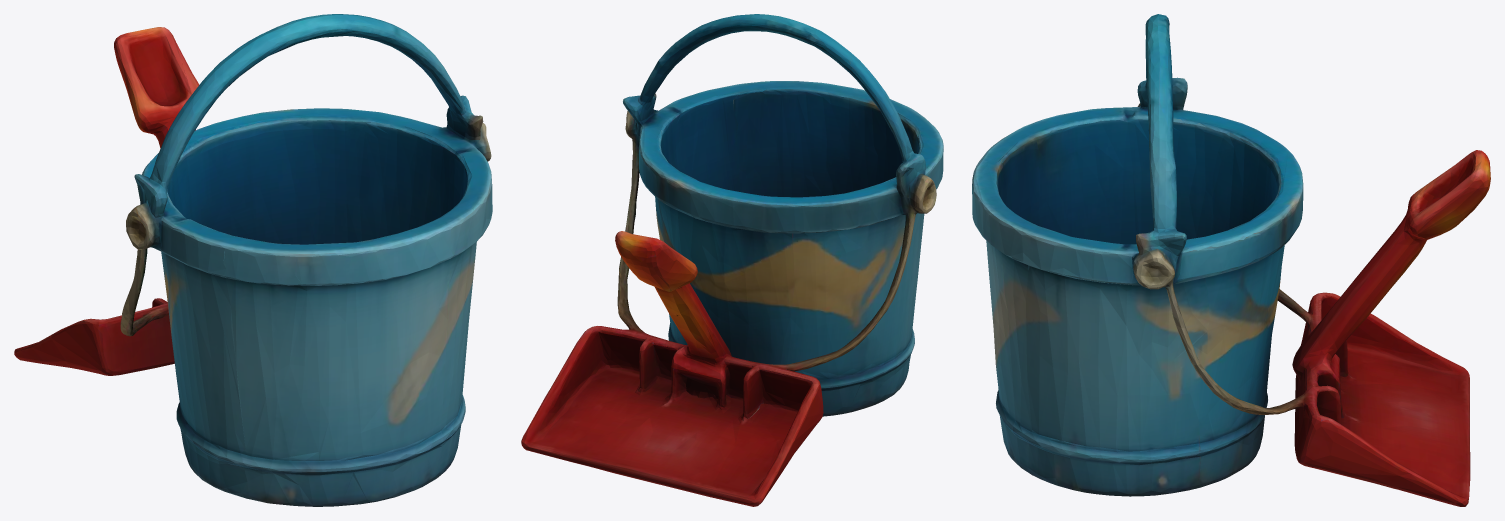
The picture shows the model from 3 angles, left to right: view 1: azimuth 30°, elevation 25°; view 2: azimuth 150°, elevation 25°; view 3: azimuth 270°, elevation 25°; orthographic projection. The views are drawn at different scales.
Parts seen in each view (by area): view 1: world; view 2: world; view 3: world.
Boxes of the visible parts, x1,y1,x2,y2 form: world: (14, 14, 492, 506); world: (521, 14, 943, 506); world: (972, 14, 1490, 506).
Size of the model in its own units: 0.7582 by 0.8766 by 0.9988.
1 material, 1 textured.
